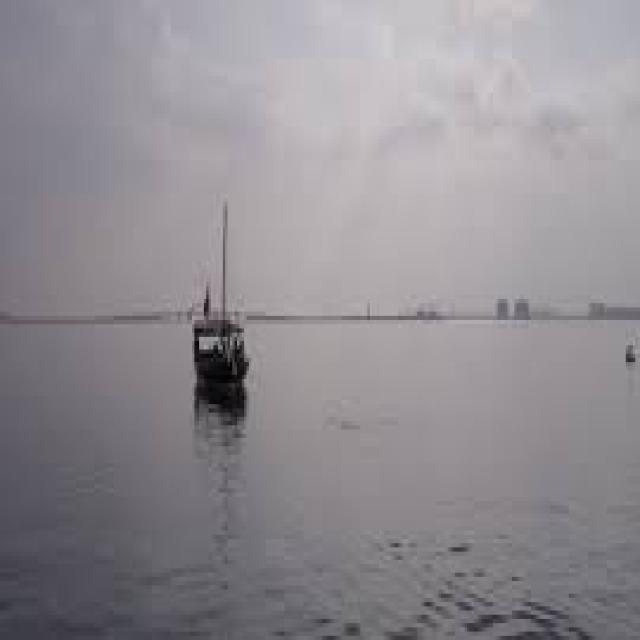fishing boat: (195, 177, 260, 402)
